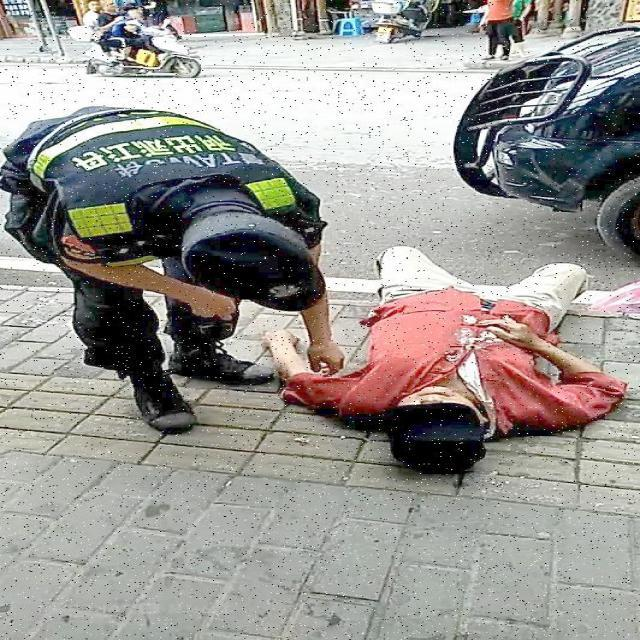fall: (285, 251, 596, 459)
